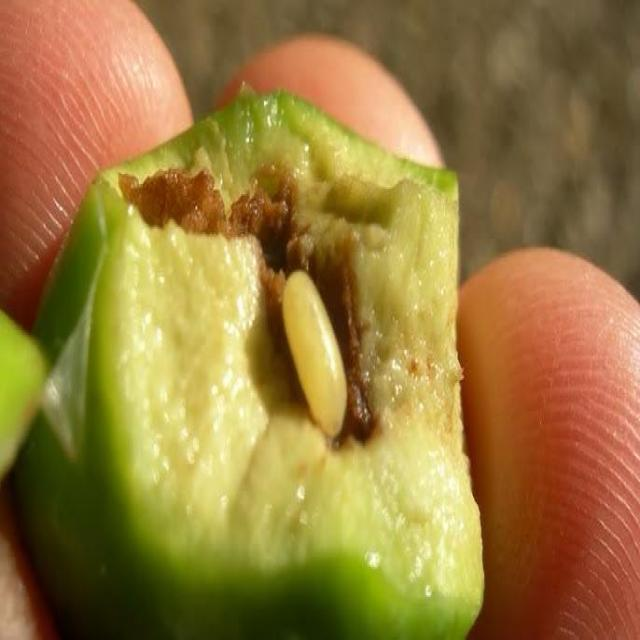Olive Fruit Fly: (15, 95, 481, 638)
